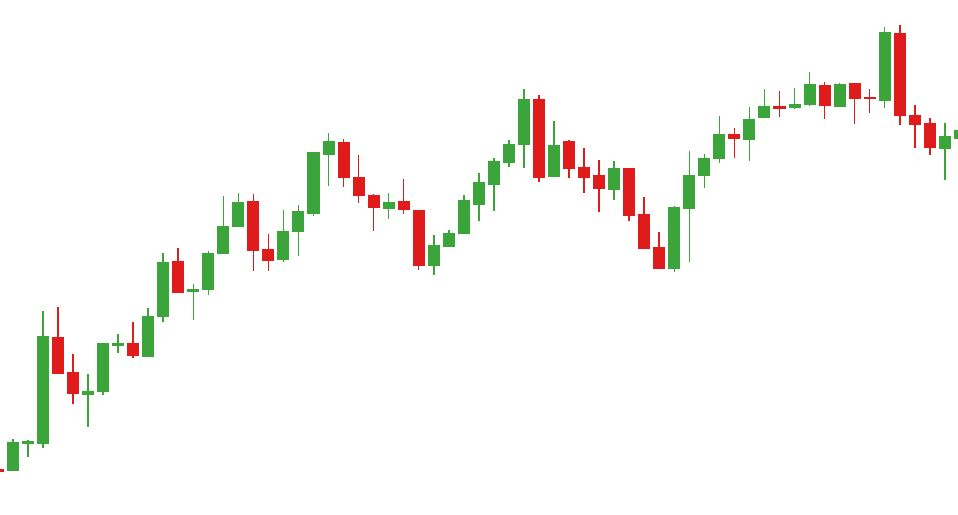sell: (322, 90, 548, 215)
